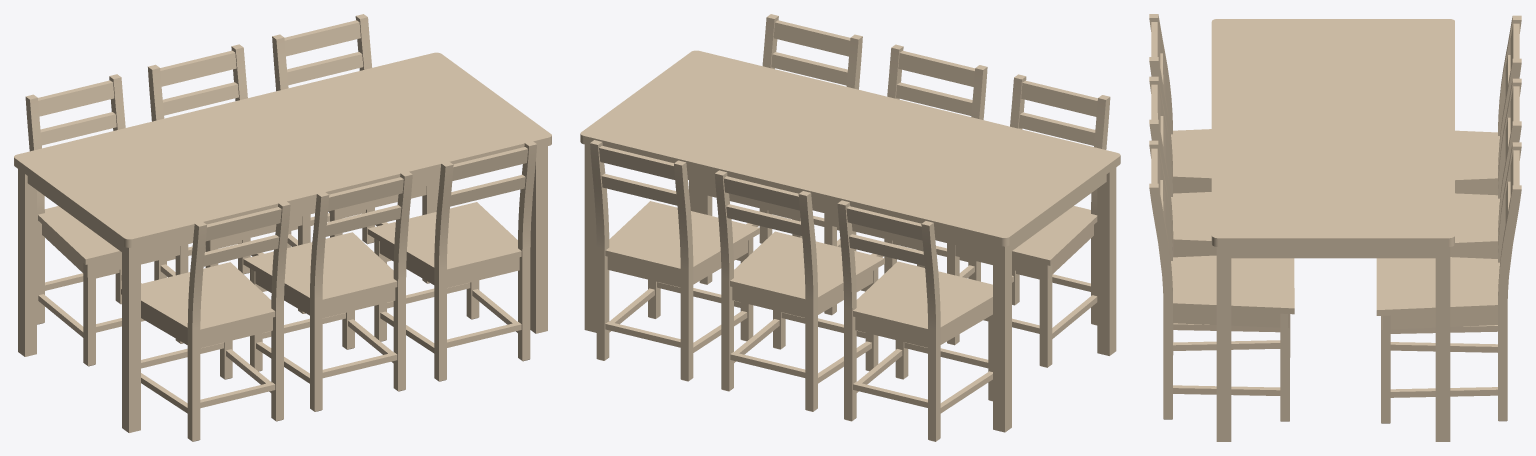
Rendered from 593_ダイニングテーブルセット6人掛け.glb.
The picture shows the model from 3 angles, left to right: view 1: azimuth 30°, elevation 25°; view 2: azimuth 150°, elevation 25°; view 3: azimuth 270°, elevation 25°; orthographic projection. The views are drawn at different scales.
Visible parts, largest first — view 1: Body, chair6, chair5, chair4, chair1, chair2, chair3; view 2: Body, chair1, chair3, chair2, chair4, chair5, chair6; view 3: Body, chair3, chair6, chair2, chair5, chair1, chair4.
Part boxes in pixels (<box>): Body: <box>14,52,551,432</box>; chair6: <box>367,141,536,381</box>; chair5: <box>243,171,412,411</box>; chair4: <box>121,201,290,441</box>; chair1: <box>25,74,188,366</box>; chair2: <box>148,44,310,313</box>; chair3: <box>272,14,434,283</box>; Body: <box>580,50,1120,432</box>; chair1: <box>837,200,992,441</box>; chair3: <box>590,140,759,381</box>; chair2: <box>714,170,884,411</box>; chair4: <box>947,74,1110,367</box>; chair5: <box>824,44,987,315</box>; chair6: <box>699,14,862,284</box>; Body: <box>1211,19,1454,441</box>; chair3: <box>1376,142,1521,423</box>; chair6: <box>1149,140,1294,421</box>; chair2: <box>1390,78,1521,333</box>; chair5: <box>1149,76,1290,357</box>; chair1: <box>1455,15,1521,195</box>; chair4: <box>1149,14,1211,193</box>.
Bounding box in the file's own units: 1.6 × 0.79 × 1.15.
